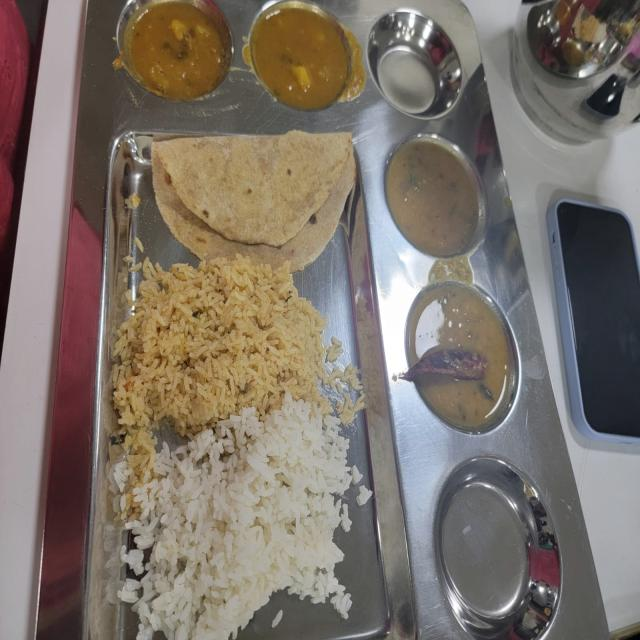Aloo curry: (119, 0, 238, 119)
Rasam: (392, 139, 490, 268)
Roti: (148, 132, 350, 261)
Tomato rice: (129, 262, 318, 414)
White rice: (137, 435, 367, 623)
sambar: (404, 284, 524, 442)
